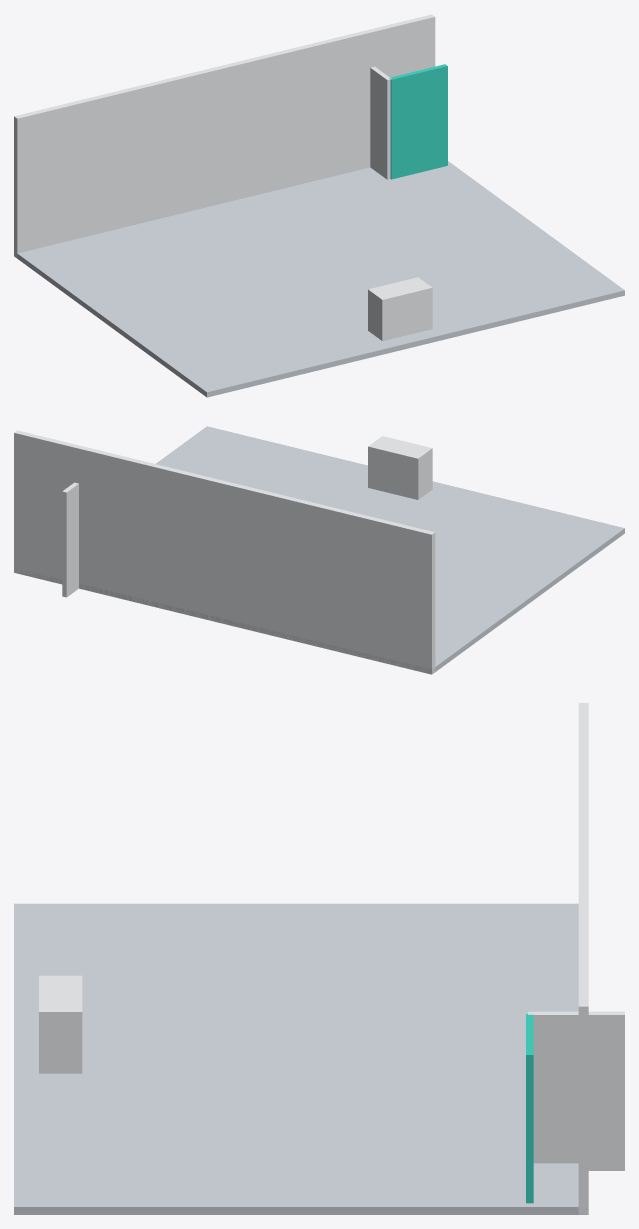
The picture shows the model from 3 angles, top to bottom: view 1: azimuth 30°, elevation 25°; view 2: azimuth 150°, elevation 25°; view 3: azimuth 270°, elevation 25°; orthographic projection. The views are drawn at different scales.
Visible parts, largest first — view 1: Exhibition Booth Concept; view 2: Exhibition Booth Concept; view 3: Exhibition Booth Concept.
Boxes of the visible parts, x1=… form: Exhibition Booth Concept: x1=14, y1=14, x2=624, y2=397; Exhibition Booth Concept: x1=14, y1=426, x2=624, y2=674; Exhibition Booth Concept: x1=14, y1=703, x2=624, y2=1214.
Bounding box in the file's own units: 10 × 3.2 × 8.51.
